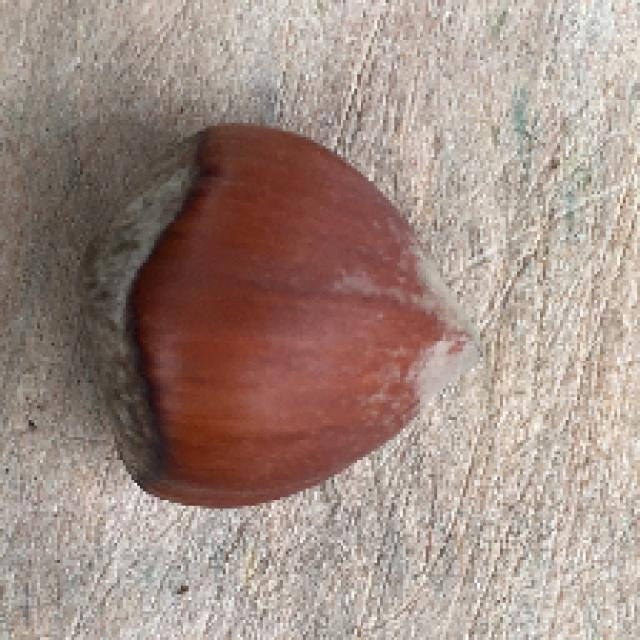qualityHazelnut: (70, 120, 482, 512)
